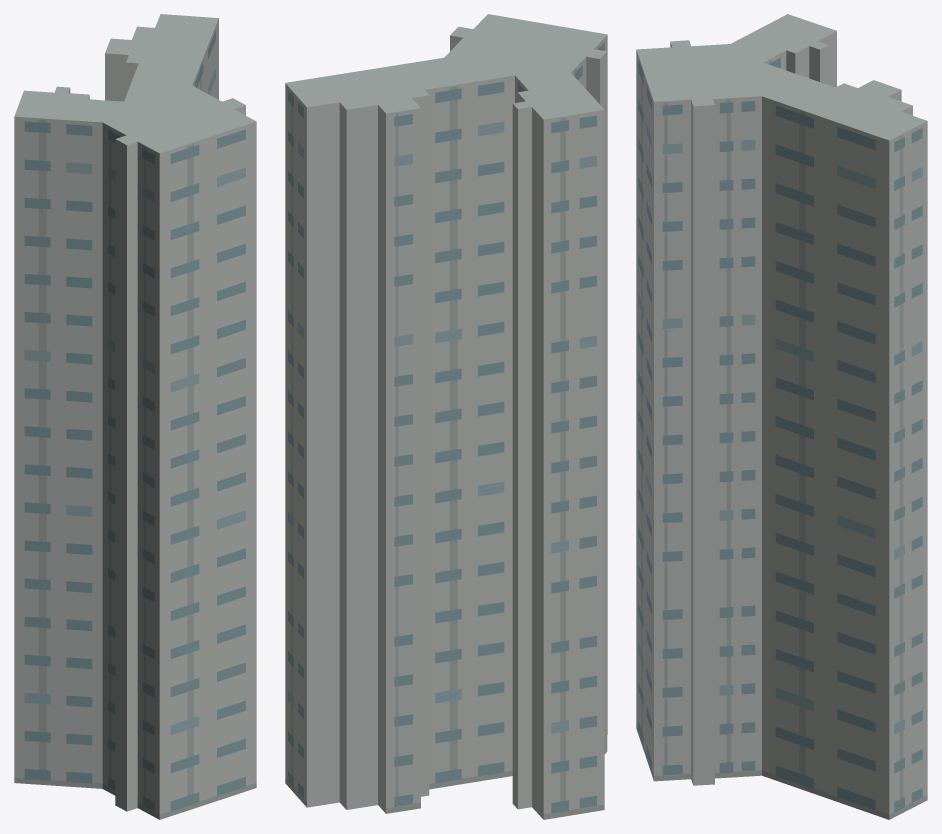
The model's file is residential-078f7392-a3bd-4874-9db2-01dff14d7851.glb.
3 renders of one model, left to right at view 1: azimuth 30°, elevation 25°; view 2: azimuth 150°, elevation 25°; view 3: azimuth 270°, elevation 25°, orthographic. The views are drawn at different scales.
Parts seen in each view (by area): view 1: residential-078f7392-a3bd-4874-9db2-01dff14d7851.tmp; view 2: residential-078f7392-a3bd-4874-9db2-01dff14d7851.tmp; view 3: residential-078f7392-a3bd-4874-9db2-01dff14d7851.tmp.
Boxes of the visible parts, left/top/right/bottom form: residential-078f7392-a3bd-4874-9db2-01dff14d7851.tmp: left=14, top=14, right=256, bottom=819; residential-078f7392-a3bd-4874-9db2-01dff14d7851.tmp: left=285, top=14, right=607, bottom=819; residential-078f7392-a3bd-4874-9db2-01dff14d7851.tmp: left=636, top=14, right=927, bottom=819.
Bounding box in the file's own units: 41.94 × 105 × 40.78.
